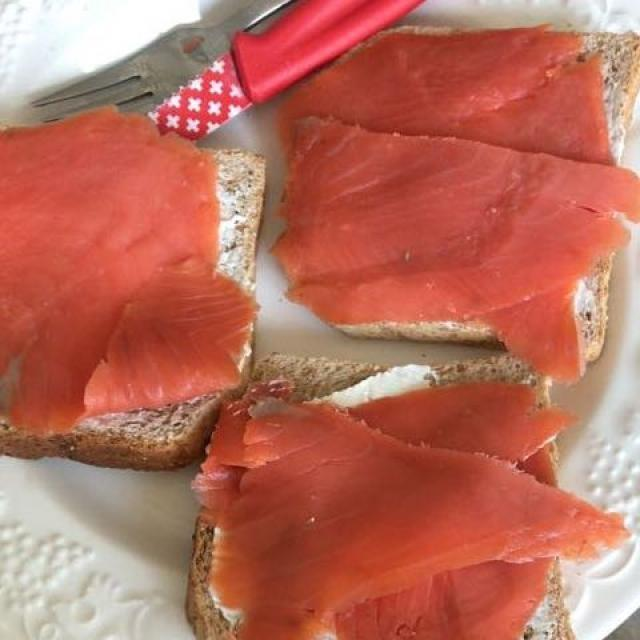salmon: (9, 30, 628, 637)
